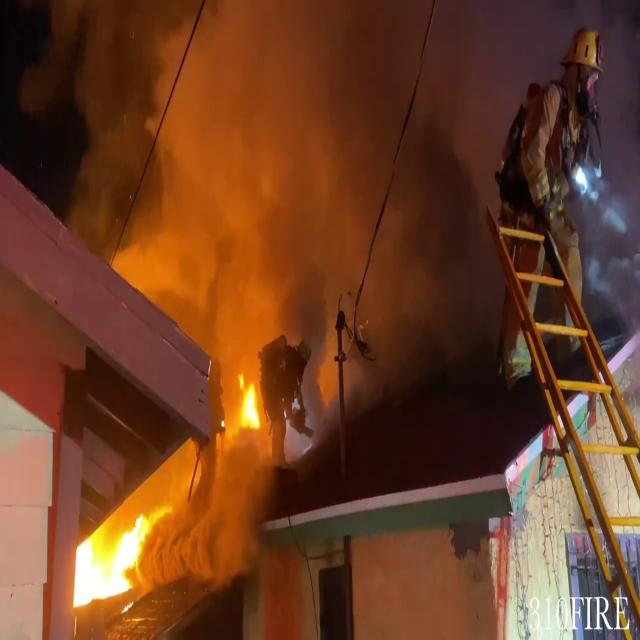Fire: (68, 493, 150, 615), (234, 368, 264, 440)
Smoke: (64, 0, 436, 356)
